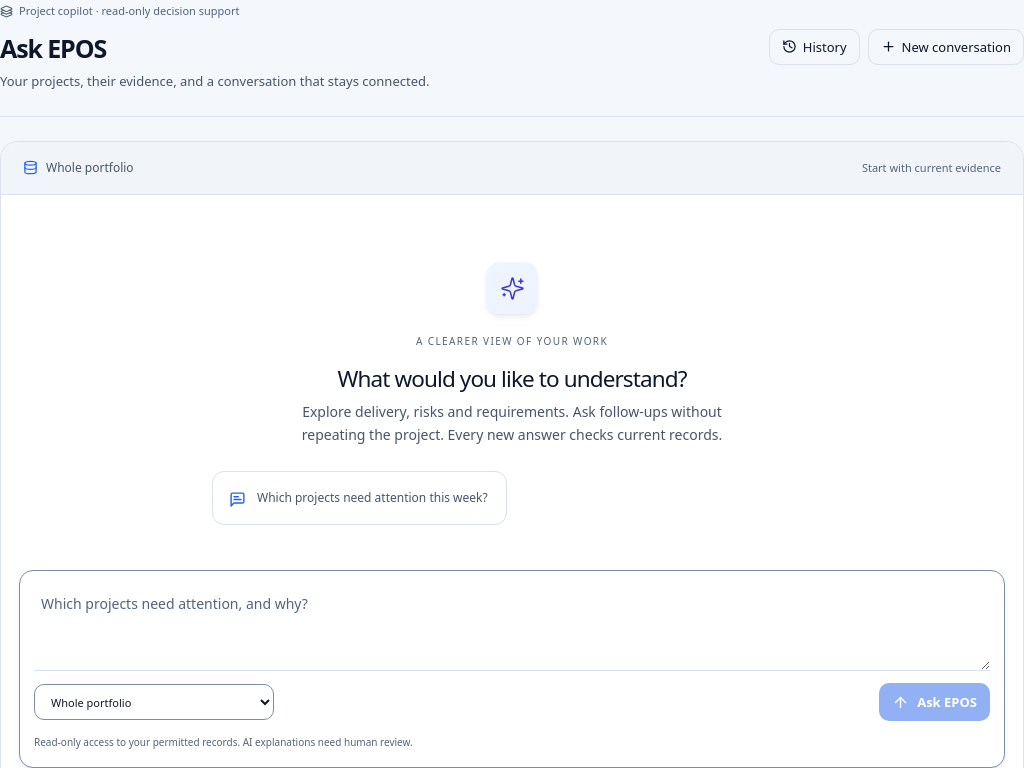
Test case: AskEposPage › explains what it can help with instead of reporting a routing failure
The width and height of the screenshot is (1024, 768).
In the text box named "Ask a question": {"x": 512, "y": 627} [34,585,990,670], type "what is the weather"
Then press Enter
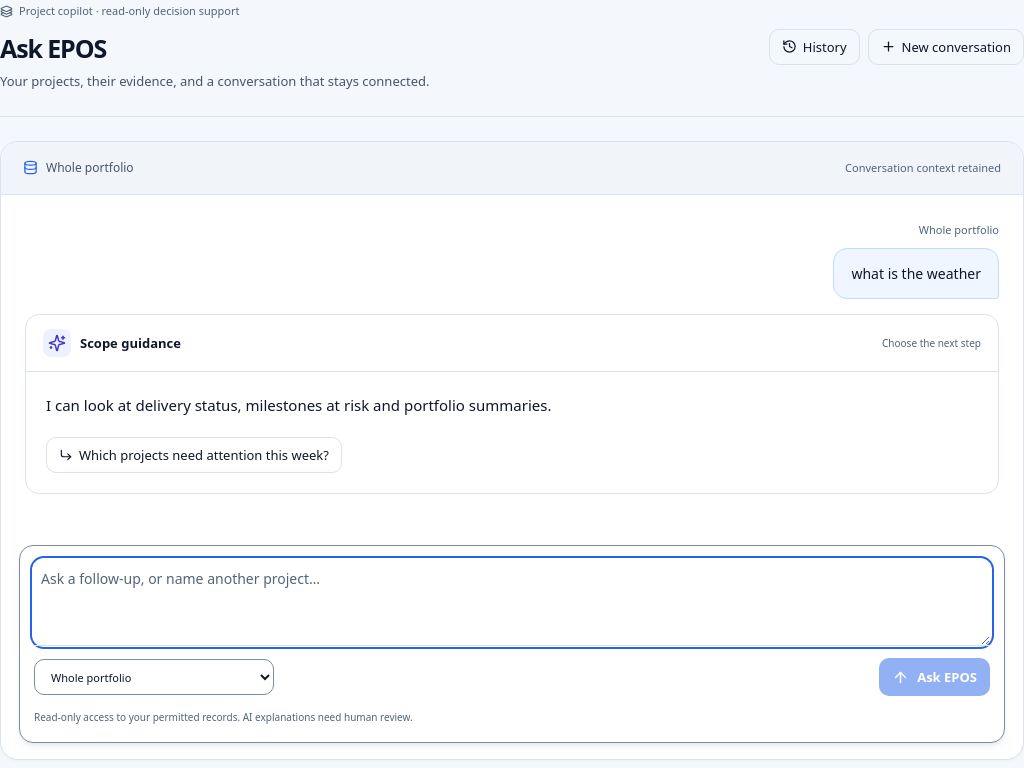
expect the text "I can look at delivery status" is shown: met, box [46,395,551,415]
